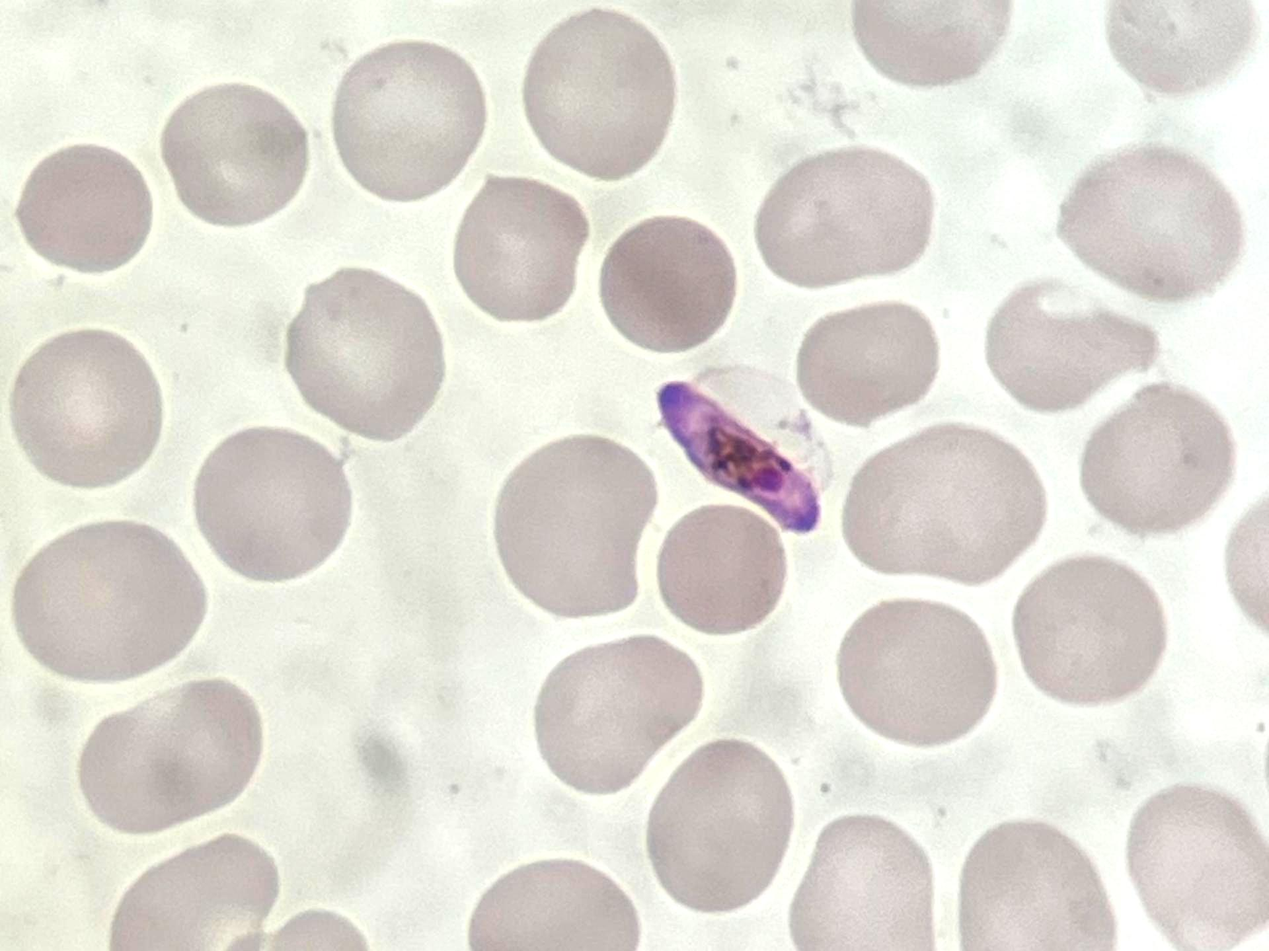Infected: (652, 366, 834, 524)
Uninfected: (18, 518, 209, 680), (844, 430, 1043, 580), (494, 437, 655, 615), (1055, 142, 1237, 299), (538, 631, 704, 799), (291, 261, 445, 439), (75, 684, 258, 833), (187, 419, 348, 586), (328, 36, 491, 198), (753, 142, 936, 283), (524, 5, 674, 177), (1121, 783, 1268, 951), (1082, 382, 1237, 540), (11, 327, 159, 487), (643, 748, 792, 905), (835, 600, 996, 743), (985, 276, 1157, 409), (154, 91, 313, 230), (784, 814, 941, 951), (1011, 565, 1159, 703), (643, 505, 796, 637), (958, 820, 1112, 951), (456, 173, 589, 318), (793, 305, 947, 425), (604, 214, 736, 348), (22, 142, 150, 279)
